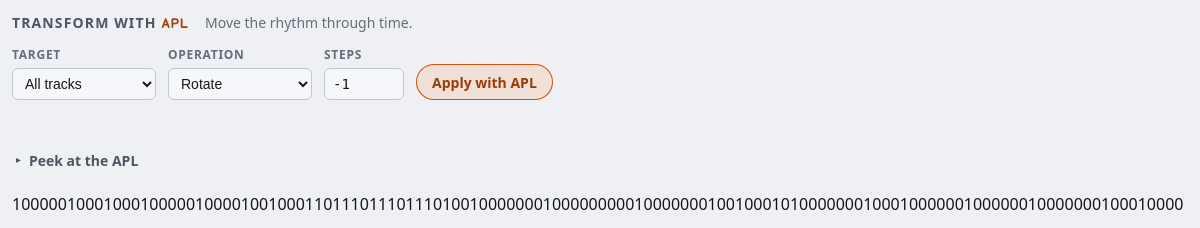
it: Apply › makes exactly one request and installs the result
Click the button "Apply with APL": {"x": 484, "y": 82} [416,64,553,100]
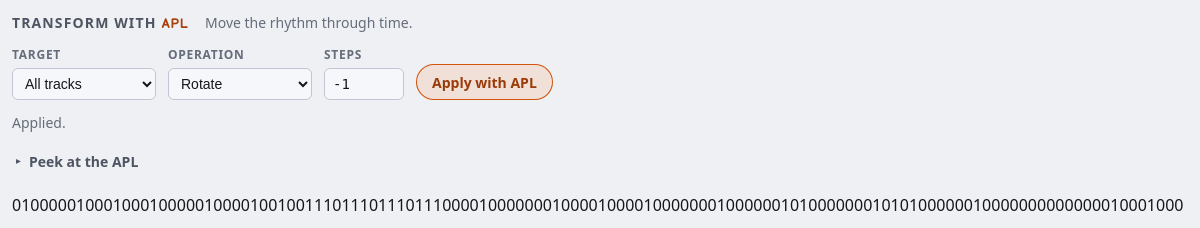
Now the text "Applied." is shown, box [12,113,66,132]
